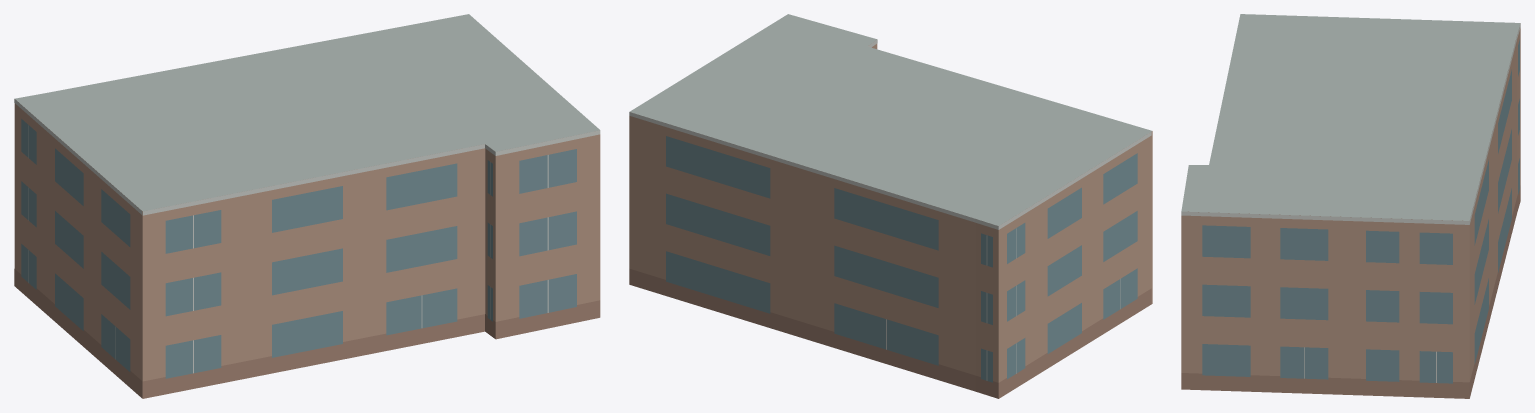
Rendered from survey-upis-32962535.glb.
3 renders of one model, left to right at view 1: azimuth 30°, elevation 25°; view 2: azimuth 150°, elevation 25°; view 3: azimuth 270°, elevation 25°, orthographic. The views are drawn at different scales.
Parts seen in each view (by area): view 1: survey-upis-32962535.tmp; view 2: survey-upis-32962535.tmp; view 3: survey-upis-32962535.tmp.
Boxes of the visible parts, x1,y1,x2,y2 form: survey-upis-32962535.tmp: (14, 14, 600, 398); survey-upis-32962535.tmp: (629, 14, 1152, 398); survey-upis-32962535.tmp: (1181, 14, 1520, 398).
Size of the model in its own units: 27.33 by 10.95 by 18.94.
